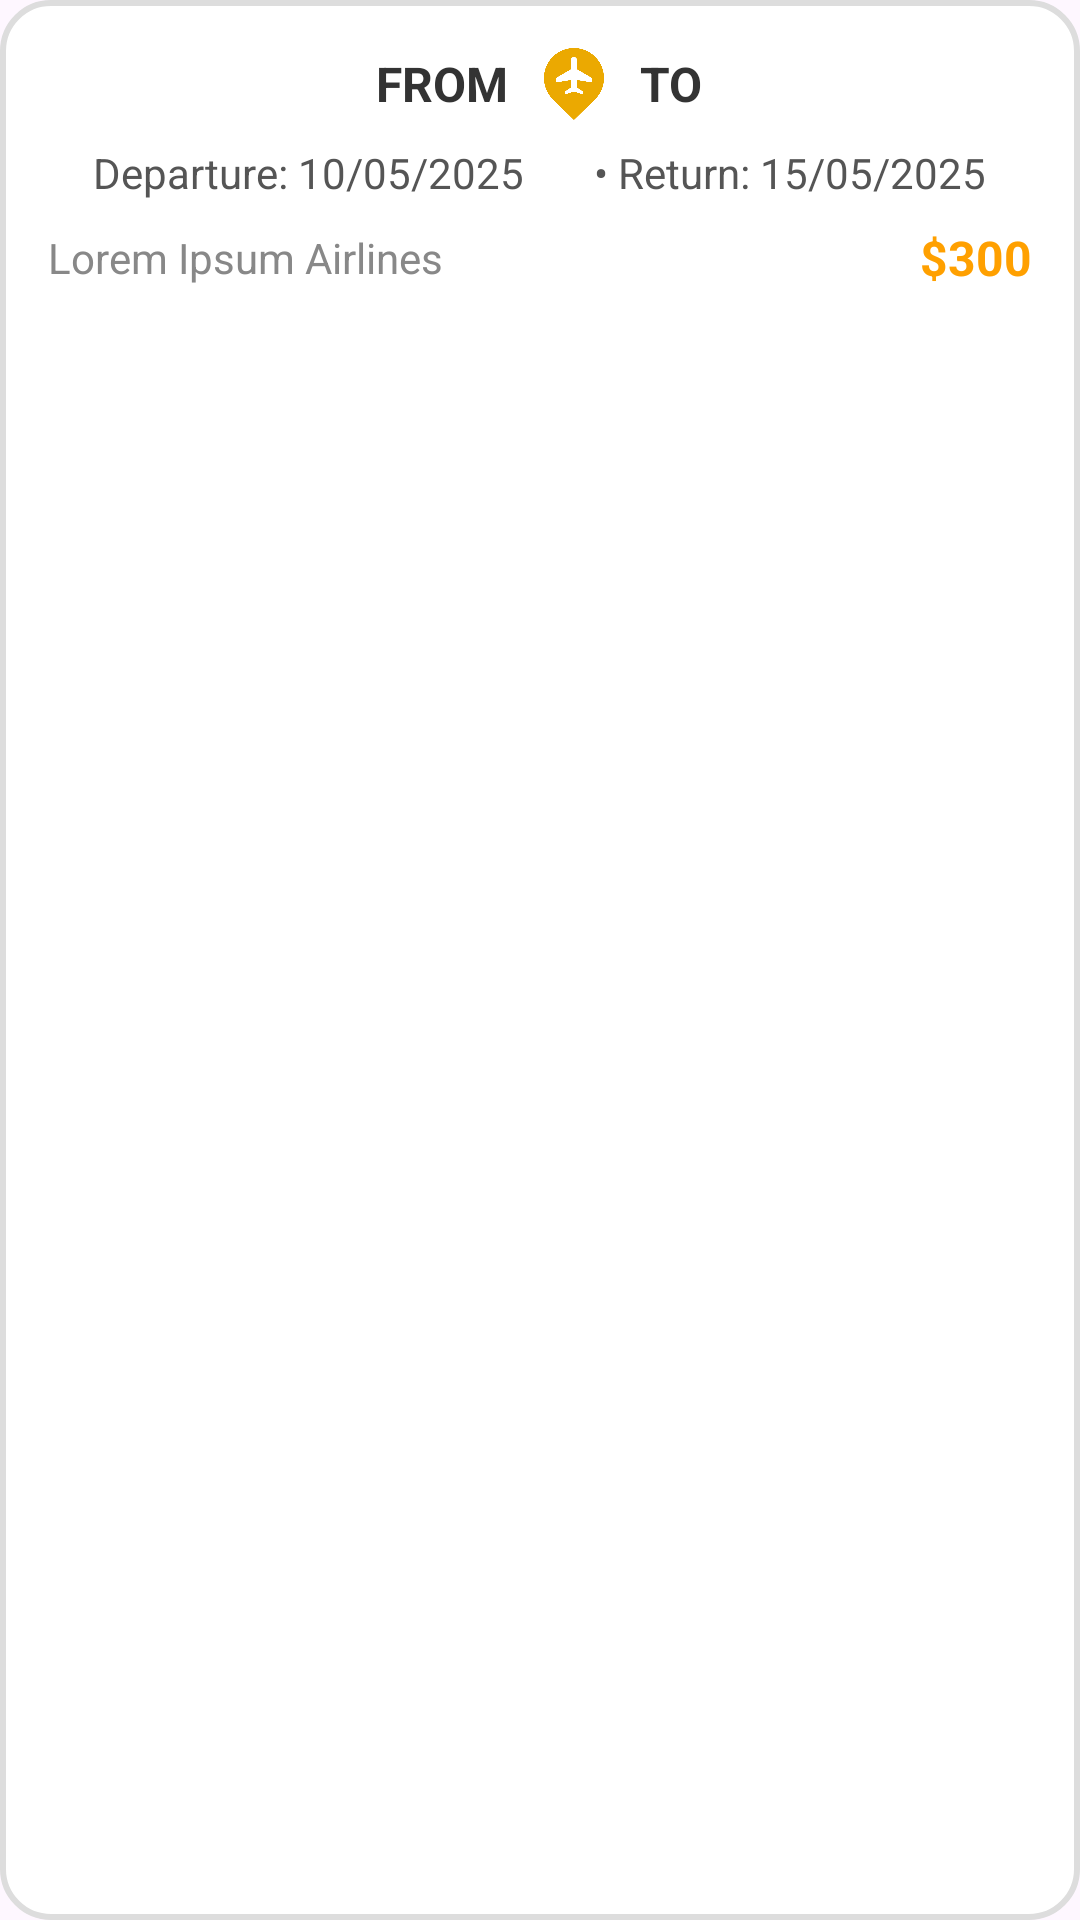

Icon click points for this 1080px×1920px phone screenshot, format [x,y]:
flight: [574,84]
